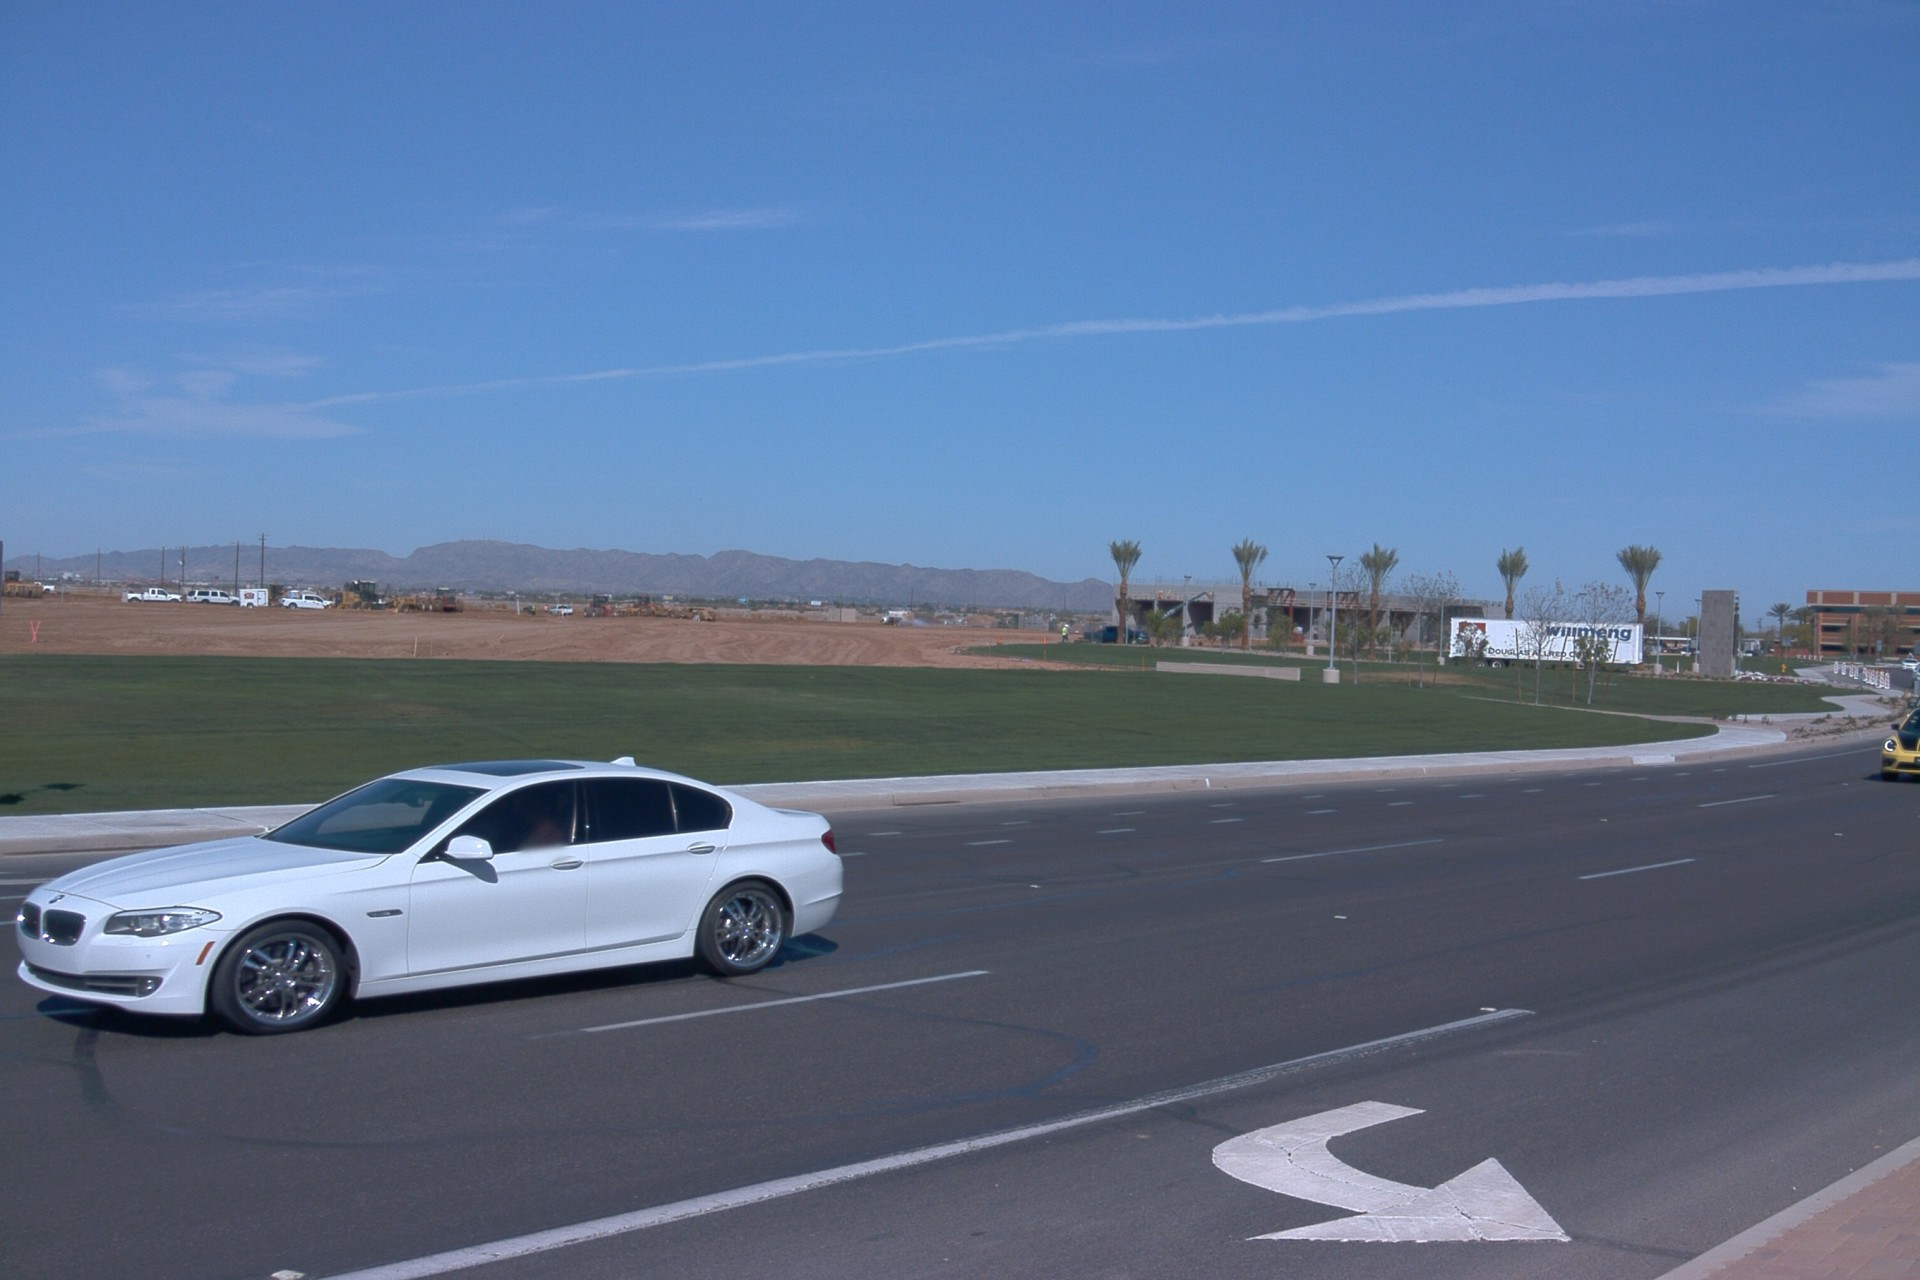TYPE_PEDESTRIAN: (1062, 624, 1070, 644), (531, 603, 537, 617), (543, 604, 549, 616)
TYPE_VEHICLE: (14, 753, 847, 1037), (1448, 612, 1646, 672), (319, 575, 406, 617), (1878, 708, 1920, 783), (399, 583, 467, 614), (1159, 586, 1214, 619), (1083, 624, 1149, 646), (281, 589, 337, 608), (185, 589, 244, 606), (125, 583, 184, 599), (878, 606, 921, 627), (235, 587, 270, 608), (268, 580, 291, 600), (549, 599, 573, 613), (38, 577, 59, 592), (1901, 658, 1920, 672), (1910, 667, 1920, 692), (1911, 690, 1920, 707), (339, 580, 354, 587)
